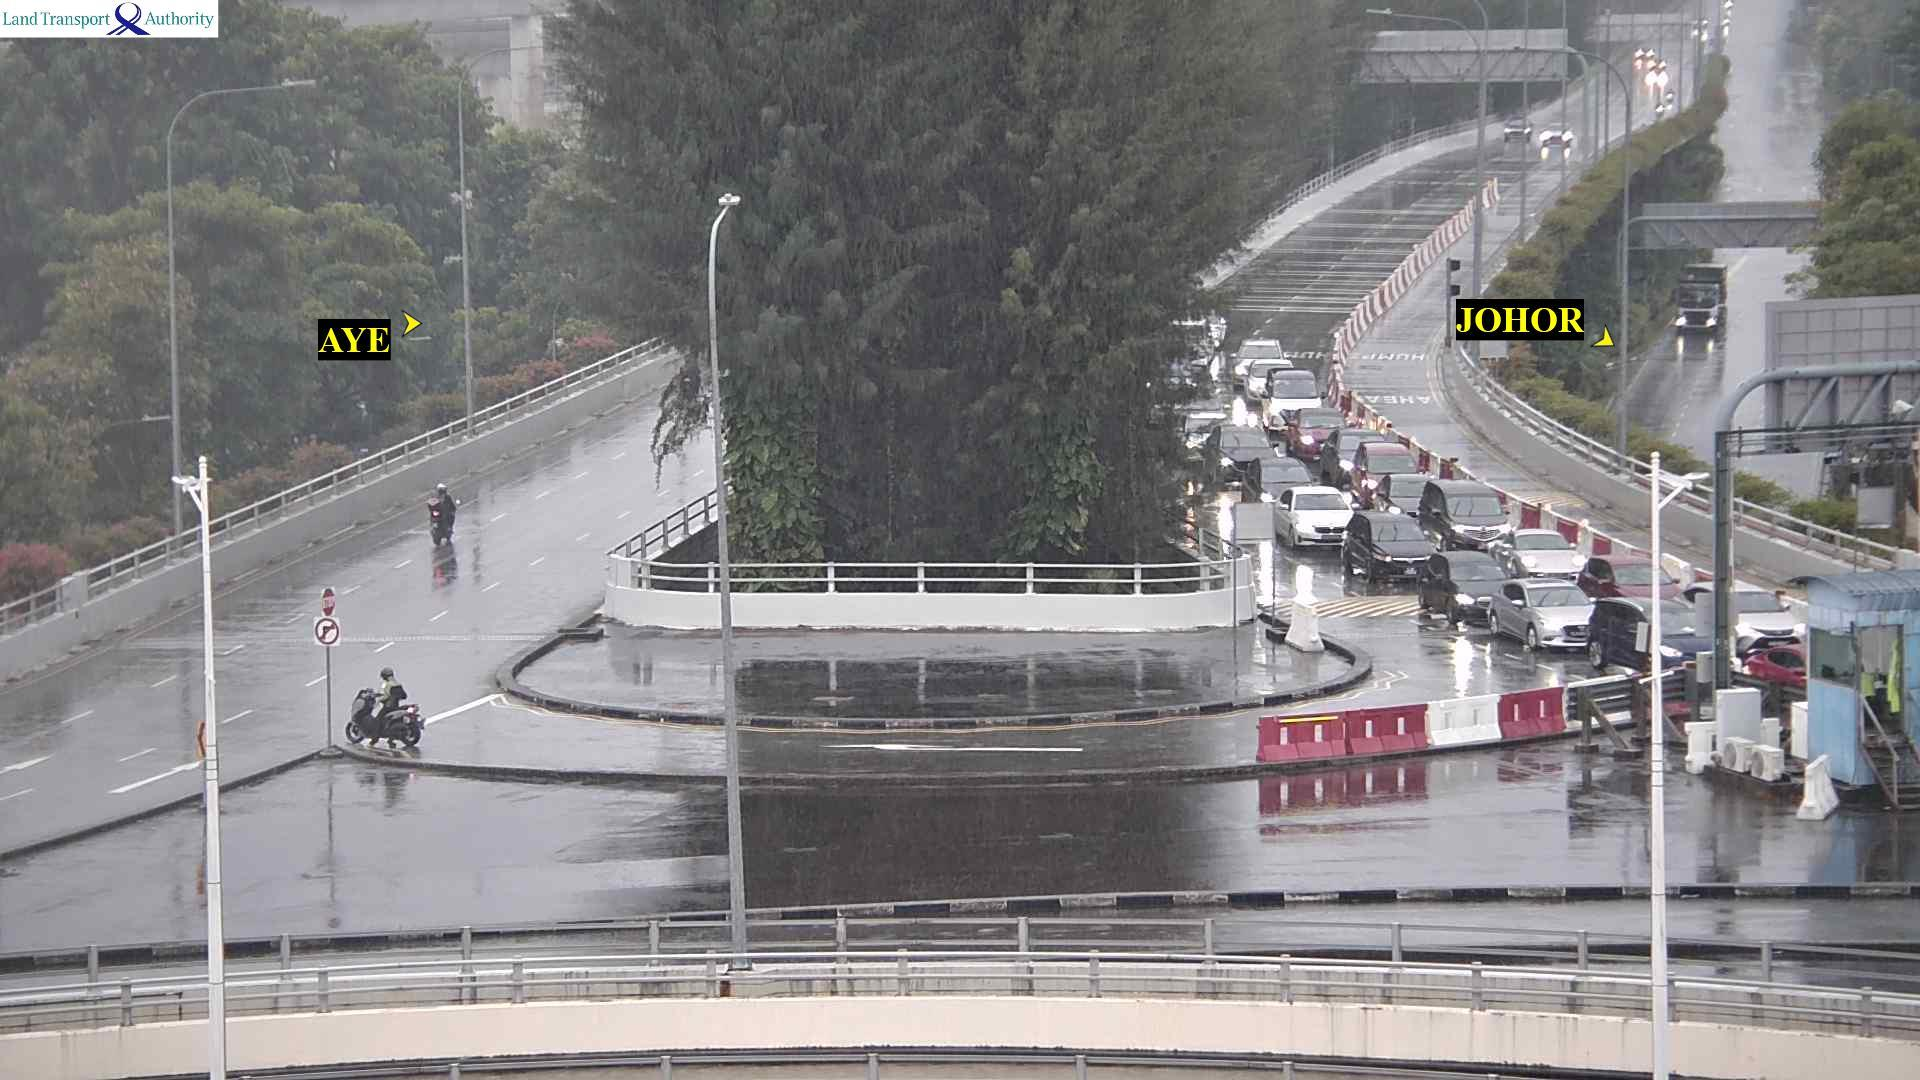vehicle-secondlink-johor: (1567, 599, 1768, 670), (1383, 481, 1534, 546), (1416, 556, 1540, 620), (1486, 588, 1621, 646), (1337, 520, 1458, 580), (1482, 533, 1602, 576), (1568, 563, 1701, 601), (1276, 491, 1354, 543), (1245, 458, 1315, 506), (1354, 440, 1415, 495), (1209, 425, 1271, 476), (1267, 371, 1321, 425), (1324, 430, 1378, 481), (1294, 411, 1344, 454), (1234, 336, 1280, 377), (1247, 361, 1292, 398), (1542, 124, 1572, 148), (1503, 116, 1530, 141)
vehicle-secondlink-singapore: (348, 665, 422, 738), (422, 481, 460, 525)
